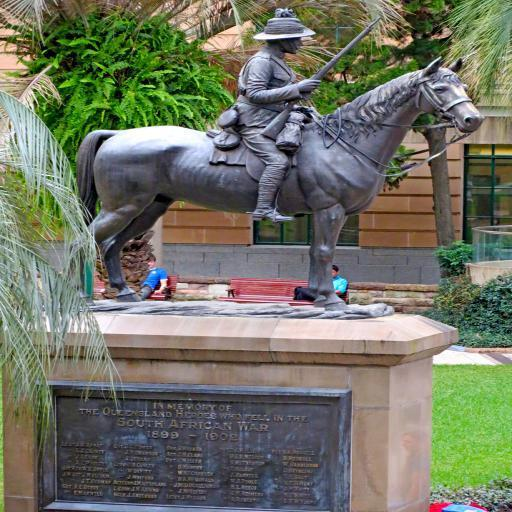horse: (68, 53, 486, 313)
